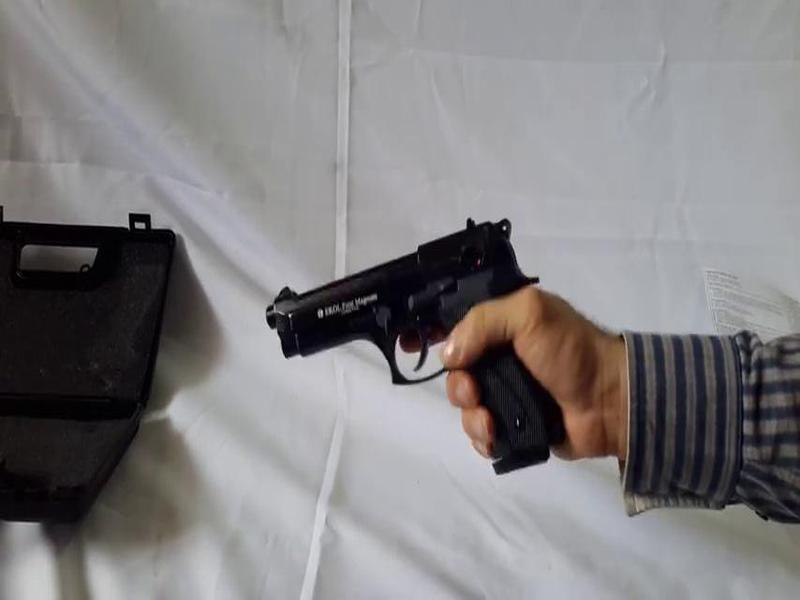Pistola: (251, 205, 552, 484)
